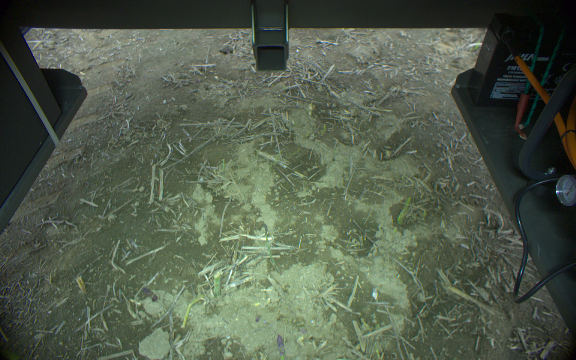aspa: (210, 270, 223, 297), (275, 333, 286, 360)
